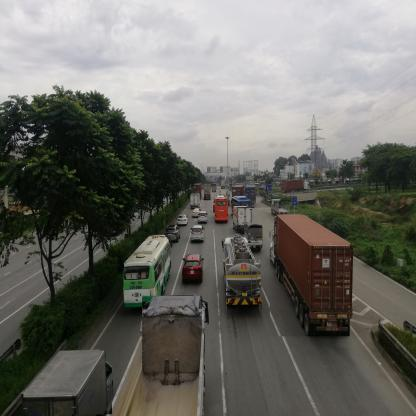bus: (125, 235, 167, 304), (214, 198, 229, 224), (233, 197, 252, 207)
car: (183, 255, 202, 284), (192, 227, 205, 244), (169, 227, 182, 244), (199, 212, 208, 224), (179, 216, 189, 225), (194, 210, 200, 219)
container: (271, 216, 351, 338), (282, 182, 311, 192), (247, 186, 258, 199), (233, 186, 245, 196)
truck: (143, 297, 209, 416), (25, 352, 113, 416), (224, 238, 260, 310), (247, 224, 263, 249), (234, 208, 251, 231), (191, 195, 201, 211), (204, 186, 212, 202)
